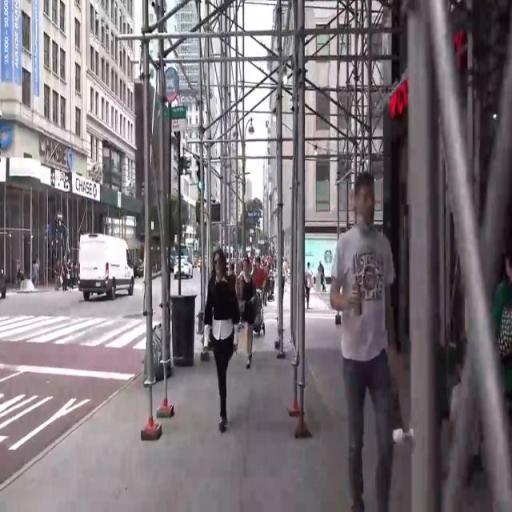person: (330, 176, 400, 512), (200, 252, 236, 437), (239, 260, 259, 373), (255, 254, 268, 316)
